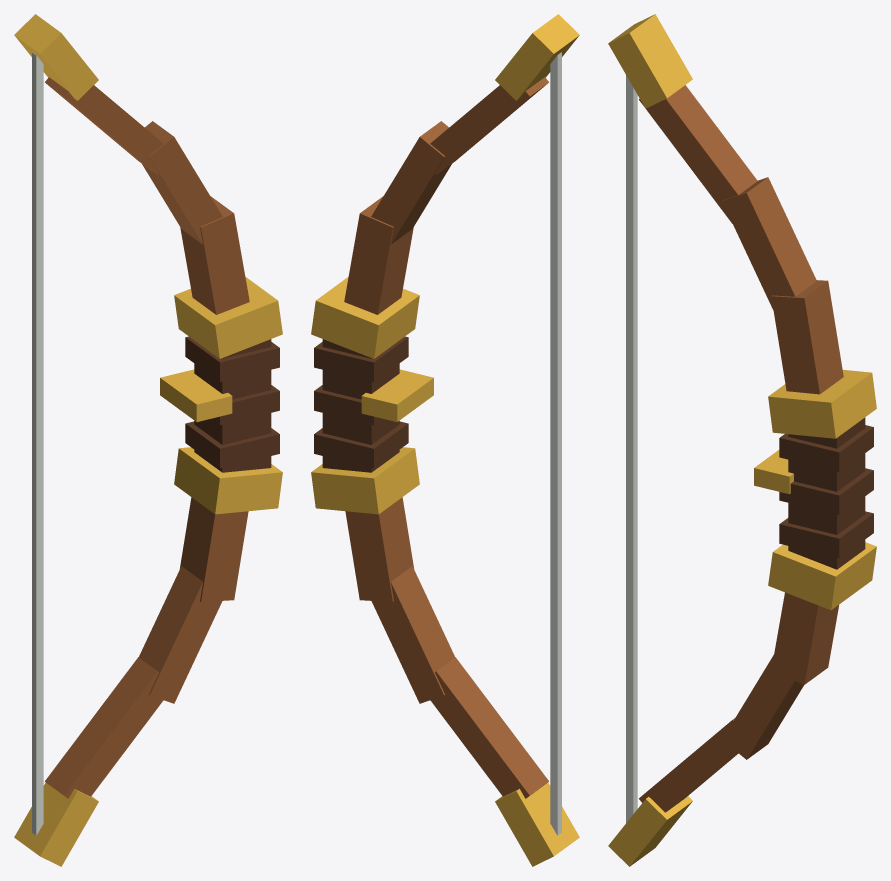
File: bow.glb
The picture shows the model from 3 angles, left to right: view 1: azimuth 30°, elevation 25°; view 2: azimuth 150°, elevation 25°; view 3: azimuth 330°, elevation 25°; orthographic projection.
Parts seen in each view (by area): view 1: bow_string, lower_limb_outer, lower_limb_middle, upper_limb_inner, upper_riser_collar, lower_limb_inner, lower_riser_collar, upper_limb_middle, lower_recurve_tip, grip_core, upper_recurve_tip, upper_limb_outer (+4 smaller); view 2: bow_string, lower_limb_outer, lower_limb_middle, upper_limb_inner, upper_riser_collar, lower_limb_inner, lower_riser_collar, upper_limb_middle, lower_recurve_tip, grip_core, upper_recurve_tip, upper_limb_outer (+4 smaller); view 3: bow_string, upper_limb_middle, upper_limb_inner, upper_limb_outer, upper_riser_collar, grip_core, upper_recurve_tip, lower_limb_inner, lower_riser_collar, lower_limb_middle, lower_limb_outer, lower_recurve_tip (+4 smaller).
Boxes of the visible parts, x1,y1,x2,y2 form: bow_string: (32, 52, 43, 835); lower_limb_outer: (45, 657, 163, 798); lower_limb_middle: (139, 566, 222, 703); upper_limb_inner: (180, 196, 249, 314); upper_riser_collar: (174, 277, 282, 358); lower_limb_inner: (180, 497, 248, 601); lower_riser_collar: (174, 447, 282, 514); upper_limb_middle: (142, 121, 222, 244); lower_recurve_tip: (14, 782, 98, 866); grip_core: (194, 339, 271, 472); upper_recurve_tip: (14, 14, 98, 100); upper_limb_outer: (45, 77, 163, 174); bow_string: (550, 52, 561, 835); lower_limb_outer: (430, 657, 548, 798); lower_limb_middle: (371, 566, 454, 703); upper_limb_inner: (344, 196, 413, 314); upper_riser_collar: (311, 277, 419, 358); lower_limb_inner: (345, 497, 413, 601); lower_riser_collar: (311, 447, 419, 514); upper_limb_middle: (371, 121, 451, 244); lower_recurve_tip: (495, 782, 579, 866); grip_core: (322, 339, 399, 472); upper_recurve_tip: (495, 14, 579, 100); upper_limb_outer: (430, 77, 548, 174); bow_string: (626, 75, 637, 822); upper_limb_middle: (722, 177, 816, 309); upper_limb_inner: (771, 280, 843, 394); upper_limb_outer: (639, 85, 757, 223); upper_riser_collar: (768, 370, 876, 438); grip_core: (788, 417, 865, 569); upper_recurve_tip: (608, 14, 692, 108); lower_limb_inner: (771, 592, 838, 684); lower_riser_collar: (768, 542, 876, 610); lower_limb_middle: (722, 655, 803, 759); lower_limb_outer: (639, 718, 738, 812); lower_recurve_tip: (608, 796, 692, 866).
Size of the model in its own units: 0.2516 by 0.8507 by 0.076.
